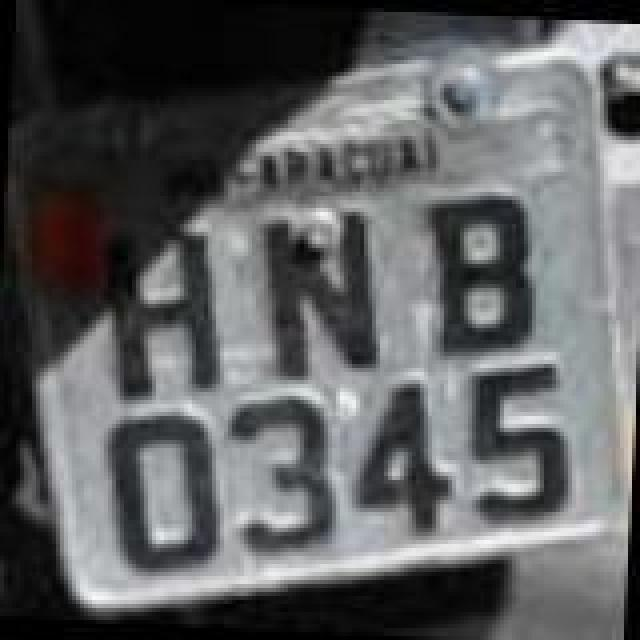3: (214, 390, 346, 562)
4: (352, 376, 464, 536)
5: (460, 360, 580, 528)
B: (418, 184, 550, 368)
H: (90, 218, 230, 406)
N: (264, 206, 392, 386)
O: (96, 408, 224, 584)
